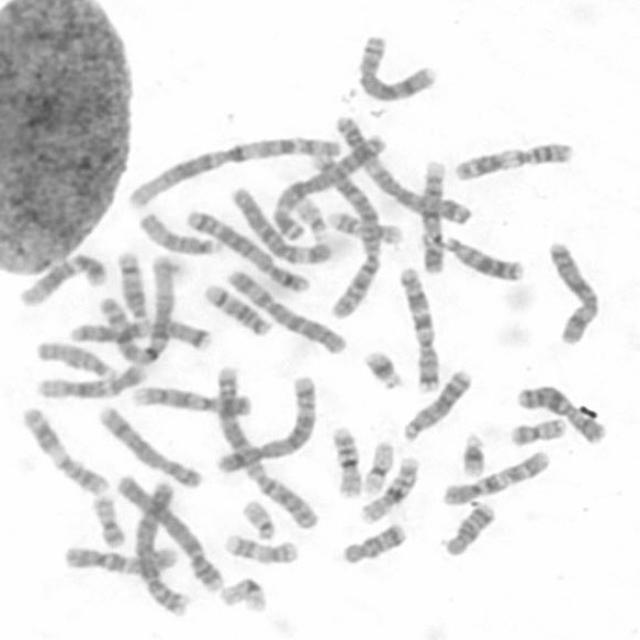A1: (122, 130, 341, 210), (71, 251, 180, 361)
A2: (210, 361, 322, 530), (304, 138, 388, 320)
A3: (328, 109, 473, 226), (268, 128, 390, 240)
B4: (112, 470, 228, 595), (122, 472, 196, 619)
B5: (210, 369, 320, 475), (183, 204, 311, 294)
C10: (438, 444, 554, 507), (61, 539, 182, 576)
C11: (16, 401, 112, 498), (449, 135, 577, 182)
C12: (15, 248, 110, 308), (33, 359, 148, 400)
C6: (222, 262, 351, 356), (227, 182, 335, 266)
C7: (393, 260, 444, 393), (63, 313, 214, 353)
C8: (94, 400, 205, 490), (353, 28, 442, 104)
C9: (126, 380, 255, 418), (415, 153, 449, 276)
D13: (398, 363, 476, 443), (436, 229, 528, 283)
D14: (200, 278, 275, 337), (114, 246, 152, 321)
D15: (136, 206, 227, 256), (32, 335, 118, 381)
E16: (354, 450, 422, 525), (327, 420, 366, 500)
E17: (324, 205, 405, 246), (218, 528, 302, 566)
E18: (438, 496, 498, 558), (338, 518, 410, 565)
F19: (359, 434, 396, 496), (214, 573, 269, 614)
F20: (87, 488, 128, 548), (505, 410, 569, 447)
G21: (358, 343, 407, 390), (456, 426, 490, 480)
G22: (237, 492, 279, 542), (290, 191, 330, 241)
X: (542, 236, 604, 346), (513, 379, 610, 445)
